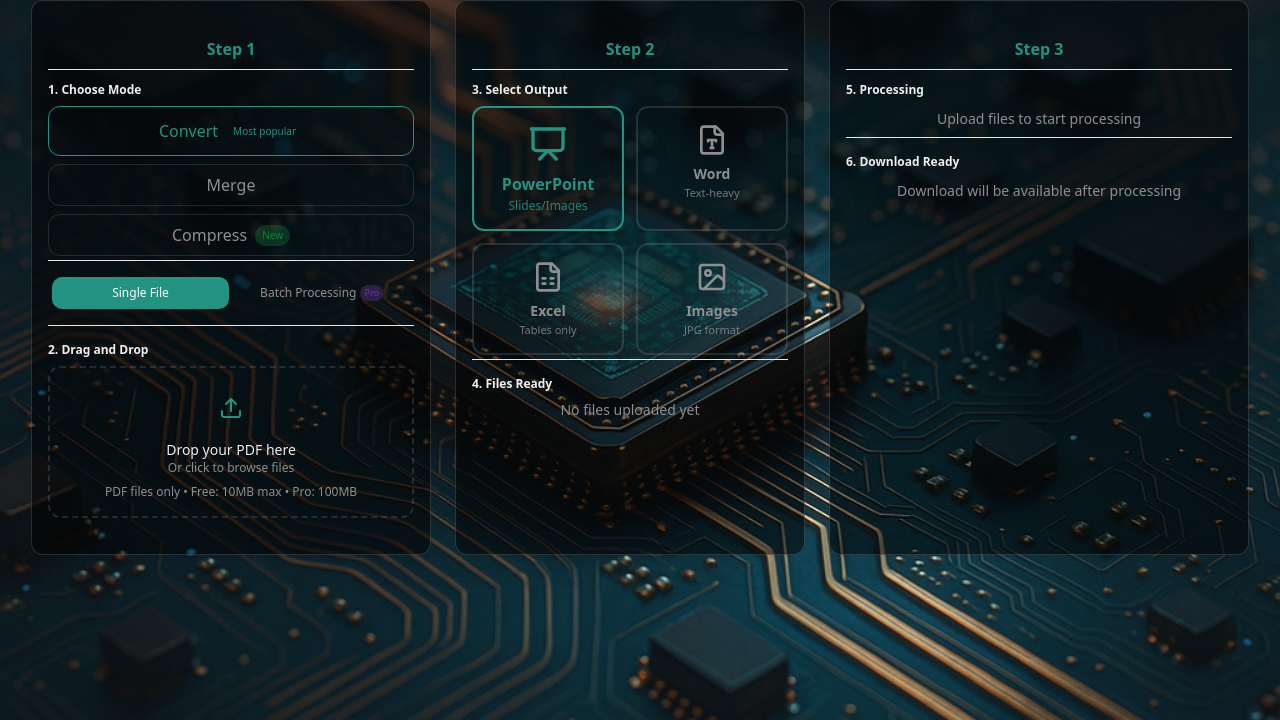
UnifiedConversionInterface › Tab Mode Switching › should show compression levels when in Compress mode
Step 1. Click the button with test id "compress-mode-button" → click(231, 235), box [48,214,414,256]
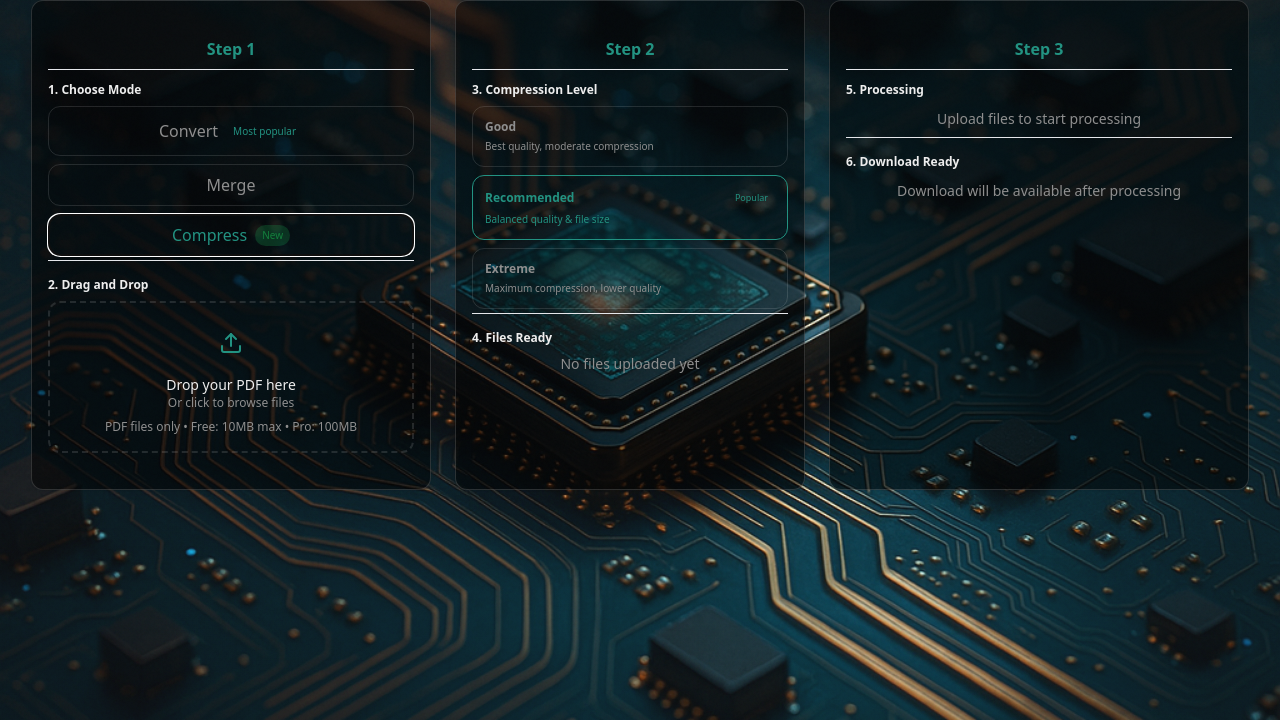
expect the button with test id "compression-level-good" is shown: met, box [472,106,788,167]
expect the button with test id "compression-level-recommended" is shown: met, box [472,175,788,240]
expect the button with test id "compression-level-extreme" is shown: met, box [472,248,788,308]
